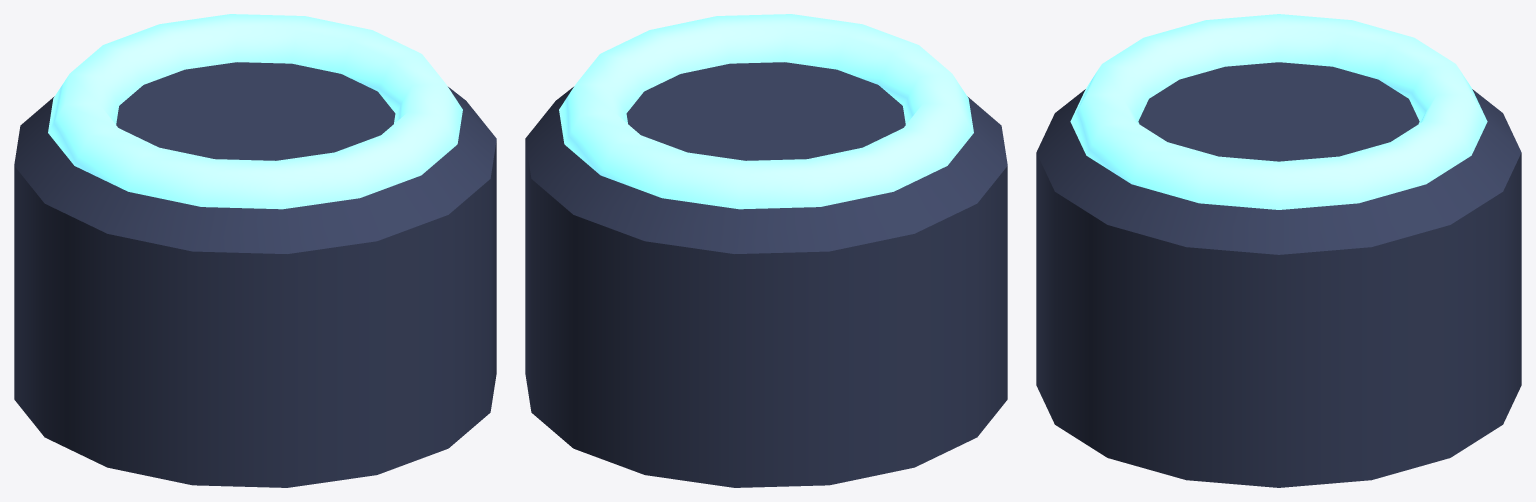
File: wall_single.glb
3 renders of one model, left to right at view 1: azimuth 30°, elevation 25°; view 2: azimuth 150°, elevation 25°; view 3: azimuth 270°, elevation 25°, orthographic.
Parts seen in each view (by area): view 1: wall_single; view 2: wall_single; view 3: wall_single.
Part boxes in pixels (box(x1,y1,x2,y2)): wall_single: box(14, 14, 496, 487); wall_single: box(525, 14, 1007, 487); wall_single: box(1036, 14, 1521, 487).
Bounding box in the file's own units: 0.5 × 0.3303 × 0.5.
